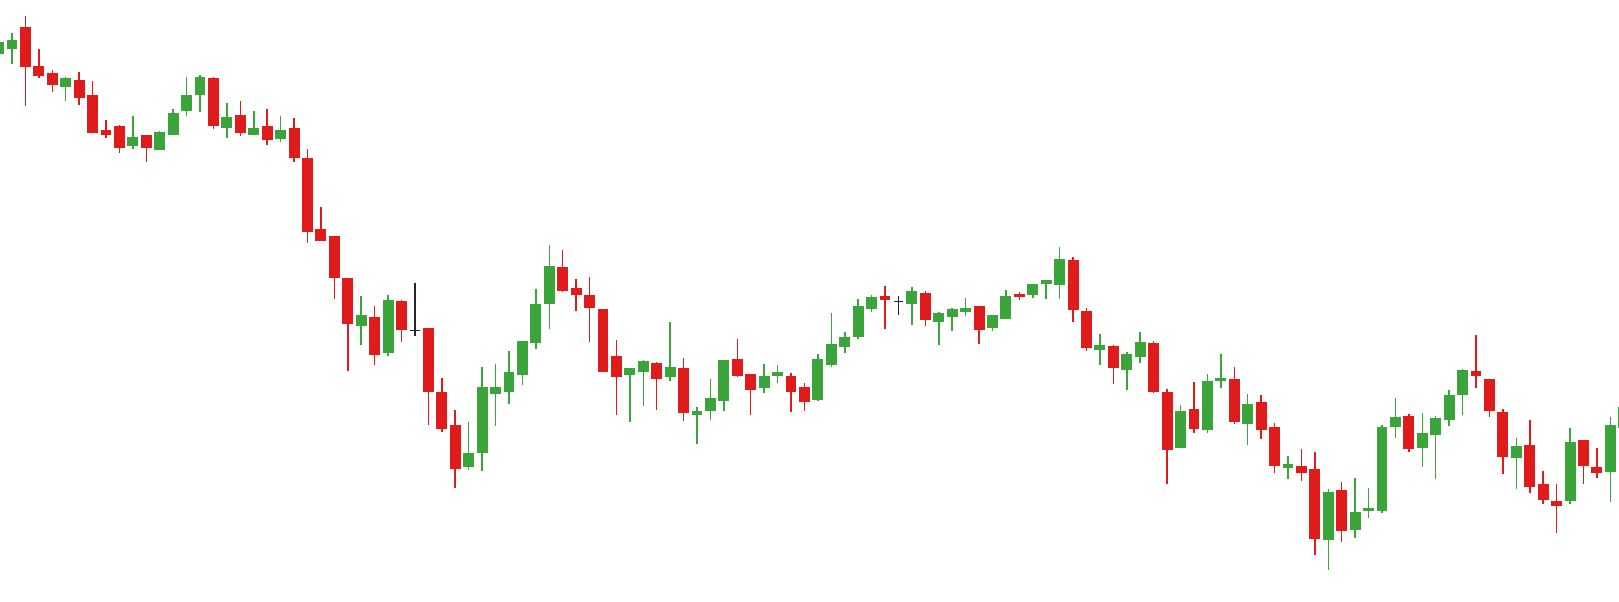sell: (410, 240, 571, 367)
